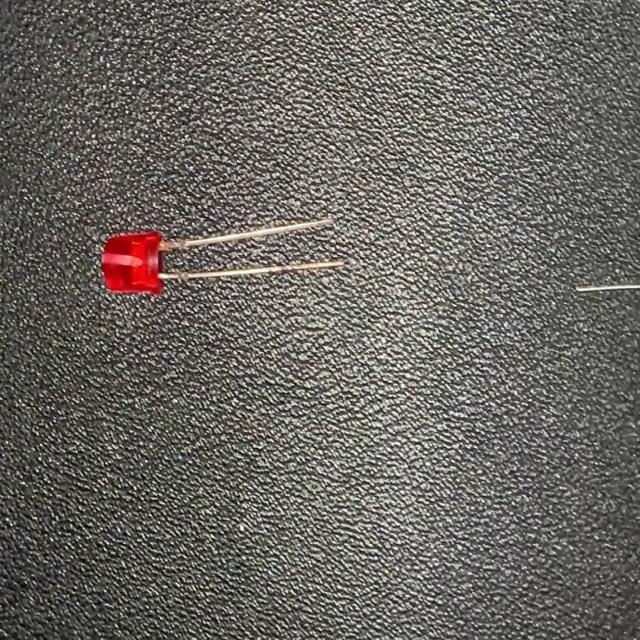LED: (98, 215, 346, 293)
